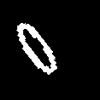chain: (17, 23, 56, 74)
